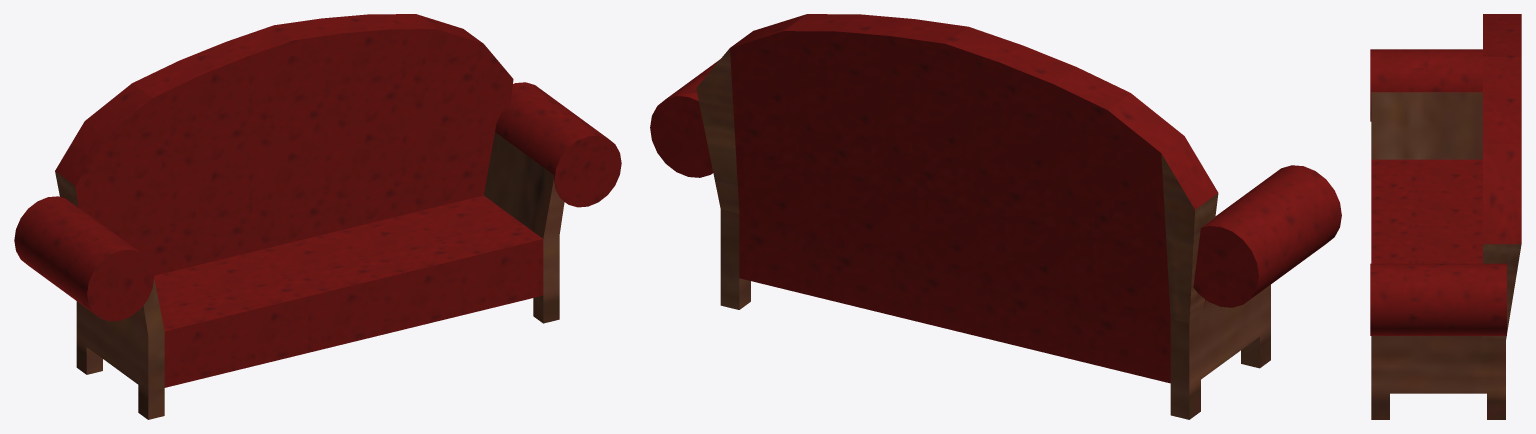
Rendered from couchFBX.fbx.
3 renders of one model, left to right at view 1: azimuth 30°, elevation 25°; view 2: azimuth 150°, elevation 25°; view 3: azimuth 270°, elevation 25°, orthographic. The views are drawn at different scales.
Parts seen in each view (by area): view 1: pCylinder3; view 2: pCylinder3; view 3: pCylinder3.
Part boxes in pixels (left/top/right/bottom): pCylinder3: left=14, top=14, right=621, bottom=419; pCylinder3: left=650, top=14, right=1341, bottom=419; pCylinder3: left=1370, top=14, right=1521, bottom=419.
Size of the model in its own units: 6.89 by 3.52 by 1.8.
1 material, 1 textured.
